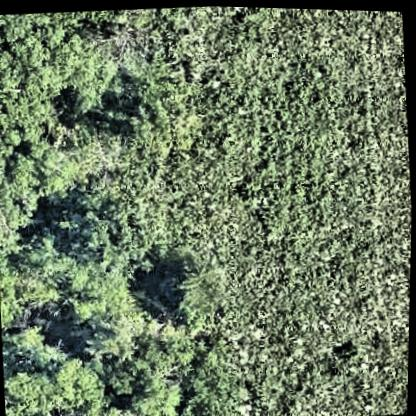tree-top: (13, 246, 110, 322), (2, 348, 110, 416), (115, 75, 193, 150), (0, 84, 66, 161), (78, 195, 147, 266), (183, 348, 252, 413), (6, 10, 73, 72), (6, 141, 81, 196), (167, 252, 230, 316), (113, 344, 174, 410), (13, 318, 54, 358)
